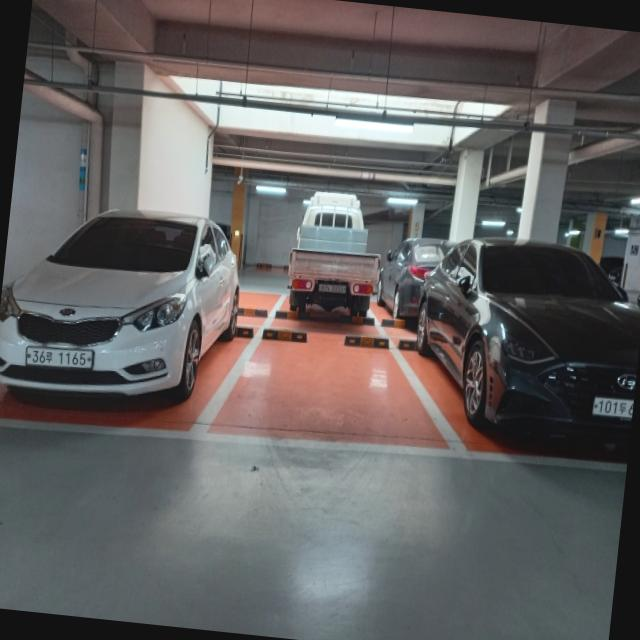car: (0, 187, 243, 436), (403, 223, 640, 462)
free: (198, 320, 437, 460)
